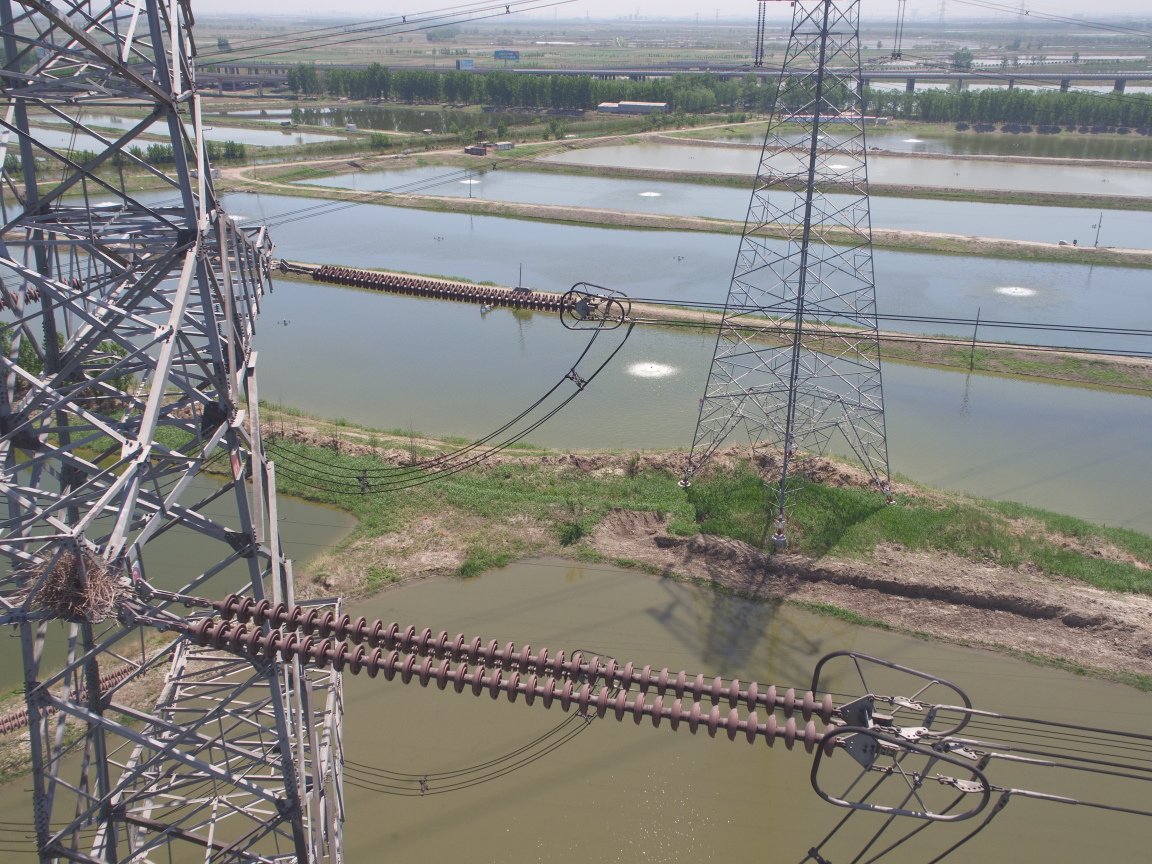insulator: (172, 591, 858, 759), (303, 261, 581, 316)
